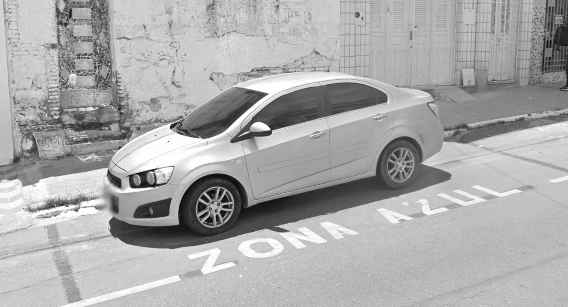car: (99, 48, 454, 239)
